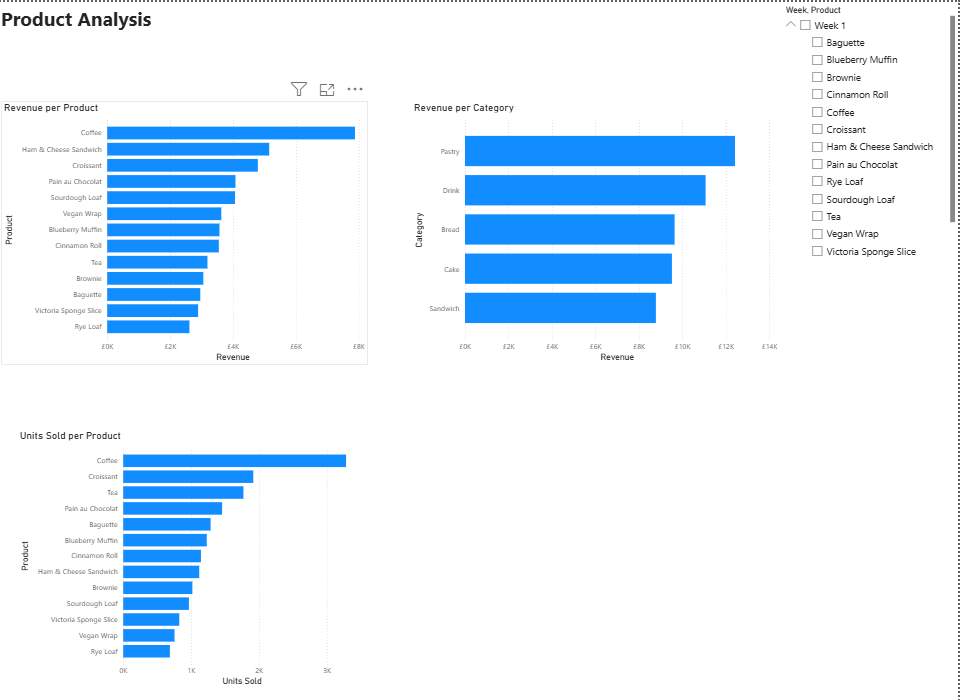

Layout of this report page (visuals, bound fields, positions):
{"tool":"powerbi","page":{"name":"Product Analysis","canvas":[1600,1200],"ordinal":1},"visuals":[{"type":"clusteredBarChart","title":"Revenue per Product","fields":{"Category":["BakeryLog.Product"],"Y":["Sum(BakeryLog.Revenue)"]},"box":[5,165,611.2,440],"z":0},{"type":"clusteredBarChart","title":"Units Sold per Product","fields":{"Y":["Sum(BakeryLog.Units Sold)"],"Category":["BakeryLog.Product"]},"box":[31.2,711.2,585,433.8],"z":1000},{"type":"clusteredBarChart","title":"Revenue per Category","fields":{"Y":["Sum(BakeryLog.Revenue)"],"Category":["BakeryLog.Category"]},"box":[688.8,165,616.2,440],"z":2000},{"type":"slicer","fields":{"Values":["BakeryLog.Week","BakeryLog.Product"]},"box":[1300,0,300,440],"z":3000},{"type":"textbox","box":[0,0,690,71.7],"z":3001}]}

Visuals, with their boxes on the page's 1600x1200 design canvas (x1, y1, x2, y2). These are canvas units, not pixel positions in the 971x700 screenshot, which may show the page scaled, cropped or inside an application window:
"Revenue per Product" clusteredBarChart: Rect(5, 165, 616, 605)
"Units Sold per Product" clusteredBarChart: Rect(31, 711, 616, 1145)
"Revenue per Category" clusteredBarChart: Rect(689, 165, 1305, 605)
slicer - BakeryLog.Week x BakeryLog.Product: Rect(1300, 0, 1600, 440)
textbox: Rect(0, 0, 690, 72)
